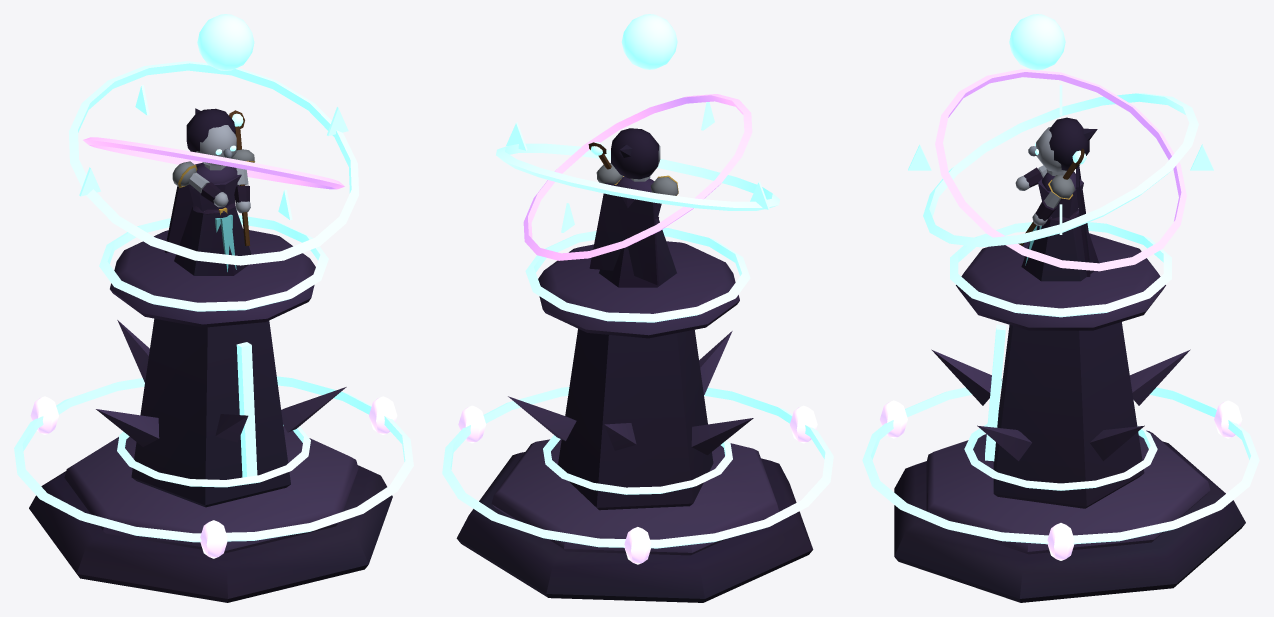
Rendered from ombres_9.glb.
3 renders of one model, left to right at view 1: azimuth 30°, elevation 25°; view 2: azimuth 150°, elevation 25°; view 3: azimuth 270°, elevation 25°, orthographic. The views are drawn at different scales.
Parts seen in each view (by area): view 1: ombres_9_peint, Anneaux_lueur, ombres_9_lueur, Rune, Buste_peint, AnneauB, OrbeMagique, AnneauFlottant_lueur, Crane_peint, BrasG_peint, BrasD_peint; view 2: ombres_9_peint, Rune, Buste_peint, ombres_9_lueur, Anneaux_lueur, AnneauB, OrbeMagique, AnneauFlottant_lueur, Crane_peint; view 3: ombres_9_peint, ombres_9_lueur, Anneaux_lueur, Rune, AnneauB, Buste_peint, OrbeMagique, AnneauFlottant_lueur, Crane_peint, BrasD_peint.
Boxes of the visible parts, x1=… form: ombres_9_peint: x1=29, y1=229, x2=392, y2=602; Anneaux_lueur: x1=69, y1=61, x2=358, y2=265; ombres_9_lueur: x1=99, y1=215, x2=328, y2=487; Rune: x1=14, y1=376, x2=413, y2=542; Buste_peint: x1=164, y1=162, x2=251, y2=275; AnneauB: x1=83, y1=137, x2=344, y2=189; OrbeMagique: x1=197, y1=14, x2=254, y2=70; AnneauFlottant_lueur: x1=30, y1=396, x2=397, y2=558; Crane_peint: x1=186, y1=108, x2=236, y2=166; BrasG_peint: x1=172, y1=161, x2=228, y2=207; BrasD_peint: x1=232, y1=149, x2=254, y2=213; ombres_9_peint: x1=456, y1=241, x2=813, y2=602; Rune: x1=442, y1=387, x2=833, y2=548; Buste_peint: x1=589, y1=176, x2=676, y2=287; ombres_9_lueur: x1=525, y1=228, x2=750, y2=494; Anneaux_lueur: x1=496, y1=102, x2=779, y2=232; AnneauB: x1=523, y1=94, x2=752, y2=260; OrbeMagique: x1=621, y1=14, x2=677, y2=69; AnneauFlottant_lueur: x1=458, y1=405, x2=817, y2=564; Crane_peint: x1=611, y1=128, x2=660, y2=179; ombres_9_peint: x1=894, y1=233, x2=1245, y2=602; ombres_9_lueur: x1=950, y1=222, x2=1171, y2=490; Anneaux_lueur: x1=908, y1=85, x2=1213, y2=247; Rune: x1=862, y1=379, x2=1259, y2=544; AnneauB: x1=935, y1=69, x2=1186, y2=271; Buste_peint: x1=1021, y1=166, x2=1098, y2=281; OrbeMagique: x1=1009, y1=14, x2=1065, y2=70; AnneauFlottant_lueur: x1=880, y1=400, x2=1242, y2=560; Crane_peint: x1=1028, y1=117, x2=1097, y2=172; BrasD_peint: x1=1032, y1=175, x2=1075, y2=225.
Bounding box in the file's own units: 0.858 × 1.2 × 0.844.
